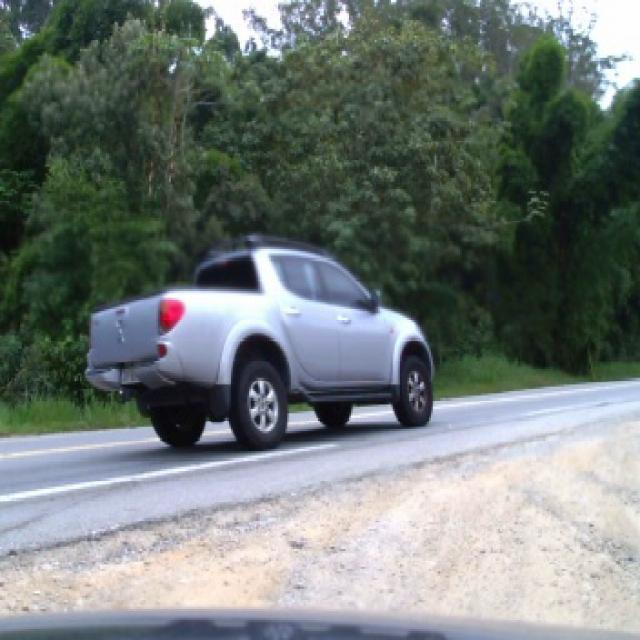Poth-hole: (0, 418, 591, 566)
